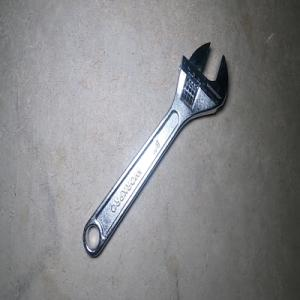Wrench: (82, 42, 228, 257)
